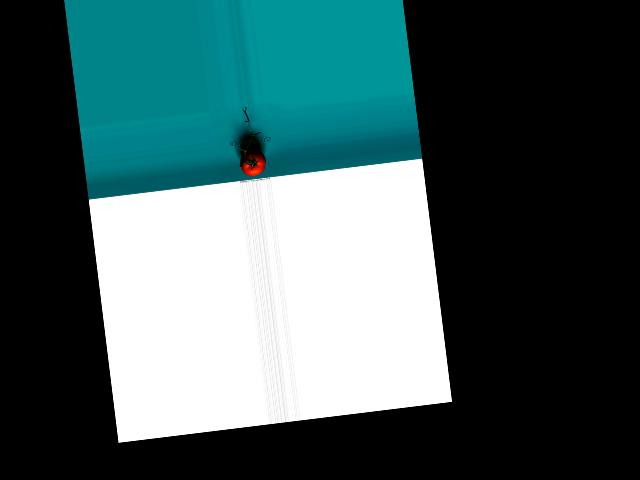tomato: (237, 148, 267, 176)
